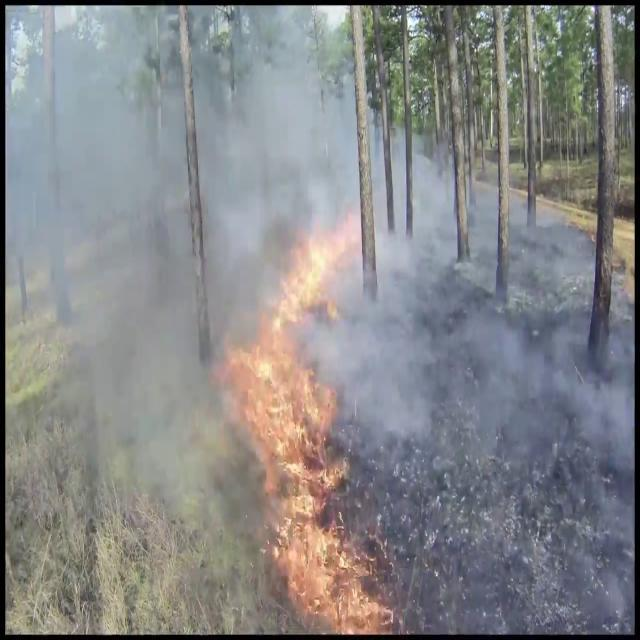Fire: (222, 211, 382, 625)
Smoke: (6, 9, 282, 602), (322, 112, 626, 556)
